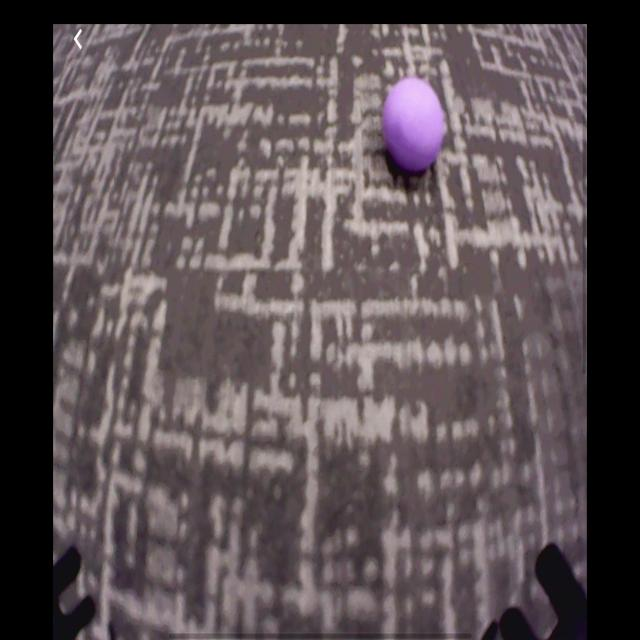ball: (382, 82, 444, 170)
